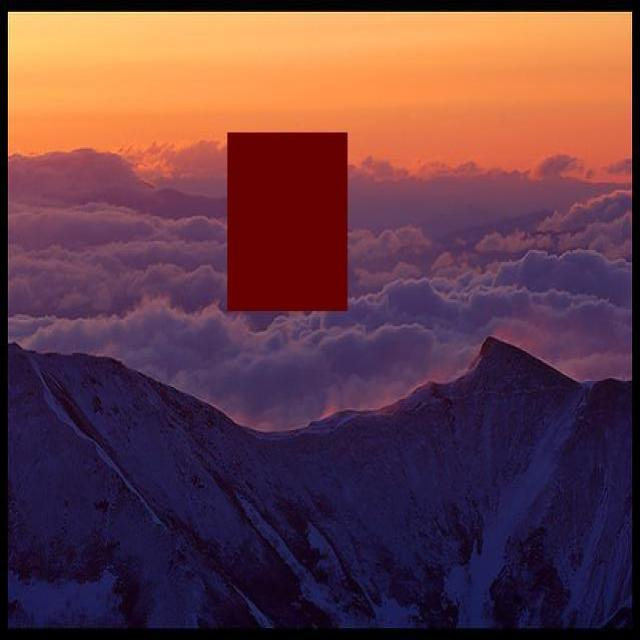RedSquare: (220, 124, 360, 318)
